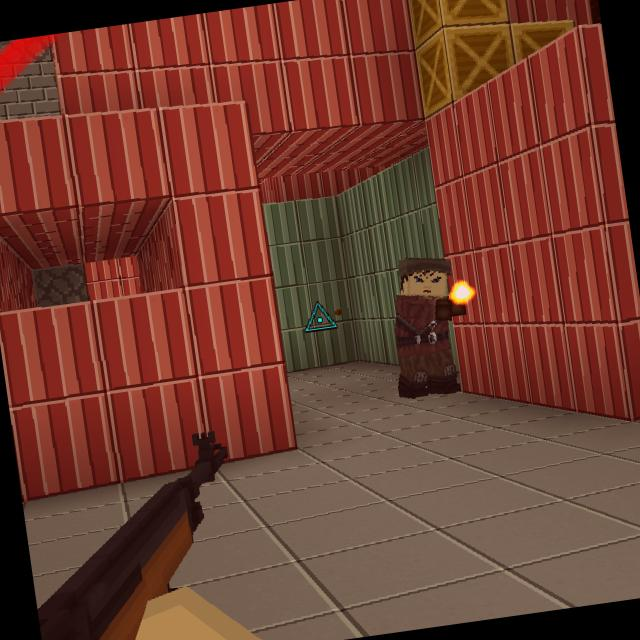enemy: (378, 247, 480, 403)
